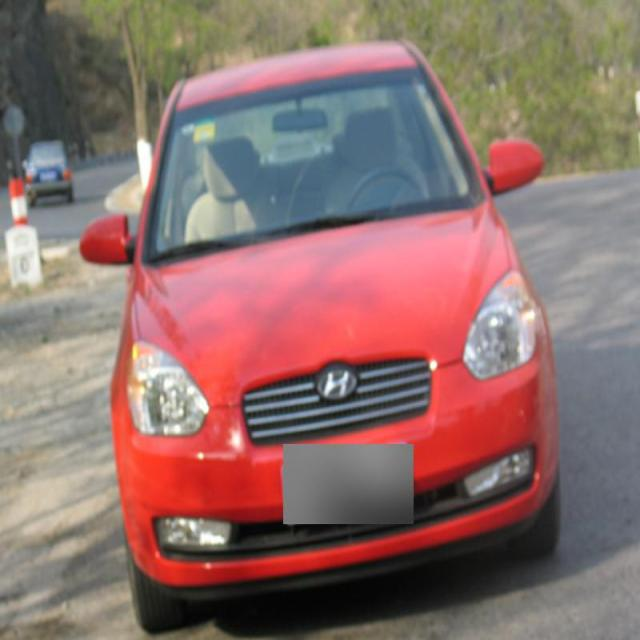front_bumper: (109, 357, 562, 588)
front_glass: (148, 63, 479, 262)
front_left_side_light: (461, 266, 544, 382)
front_left_side_mirror: (482, 134, 547, 200)
front_right_side_light: (126, 338, 212, 440)
front_right_side_mirror: (77, 211, 137, 275)
